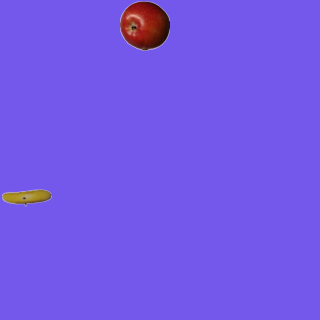Apple Braeburn: (119, 0, 169, 50)
Banana: (1, 172, 51, 222)
